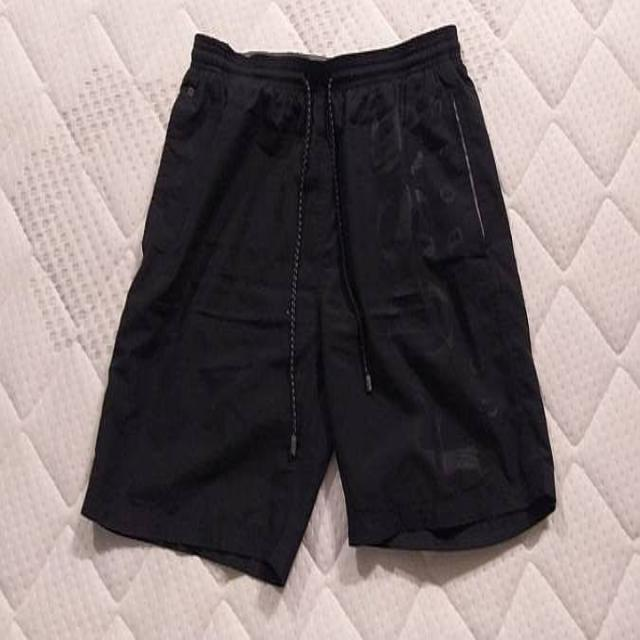SHORT: (70, 19, 584, 598)
